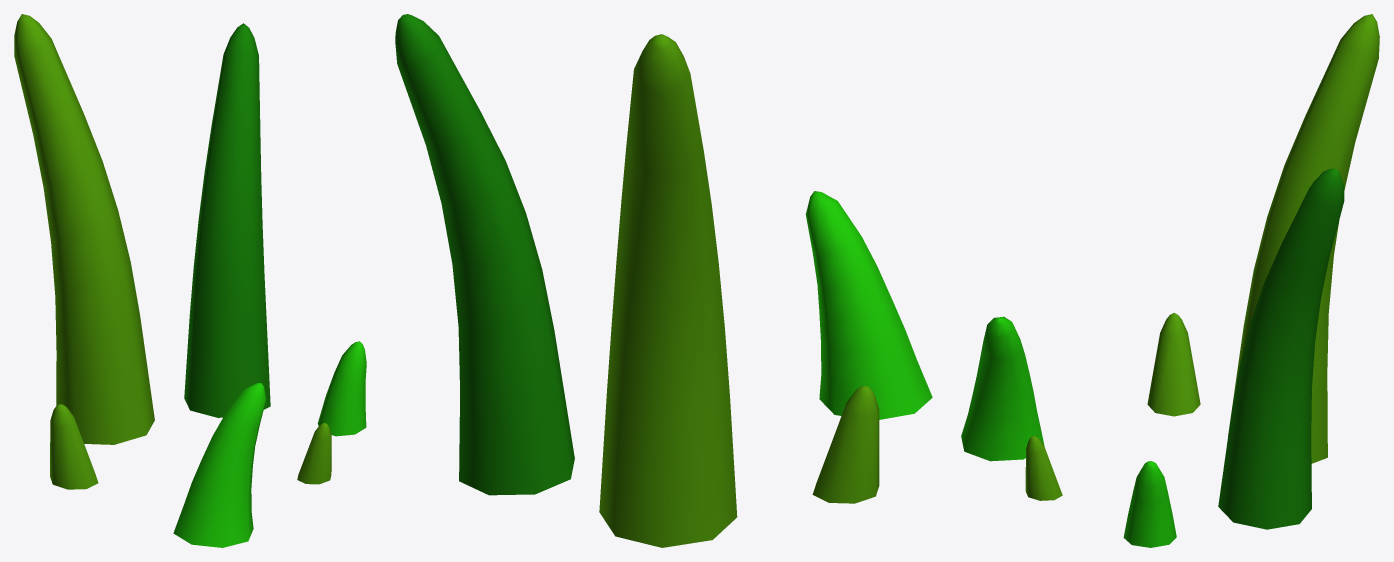
The model's file is NeutralHerb2.fbx.
3 views of the same model, side by side, from view 1: azimuth 30°, elevation 25°; view 2: azimuth 150°, elevation 25°; view 3: azimuth 270°, elevation 25° (orthographic). The views are drawn at different scales.
Visible parts, largest first — view 1: NeutralHerb2_LOD0; view 2: NeutralHerb2_LOD0; view 3: NeutralHerb2_LOD0.
Part boxes in pixels (<box>): NeutralHerb2_LOD0: <box>14,14,366,547</box>; NeutralHerb2_LOD0: <box>395,14,932,547</box>; NeutralHerb2_LOD0: <box>961,14,1379,547</box>.
Size of what is drawn, in the model's own units: 48.78 by 60.96 by 55.03.
